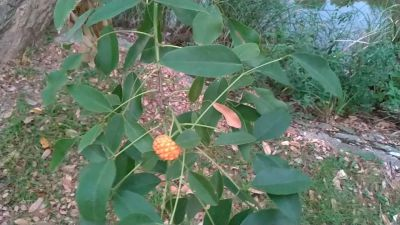eggs: (154, 135, 180, 162)
